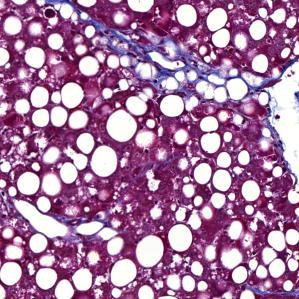fibrosis: (119, 27, 211, 94)
